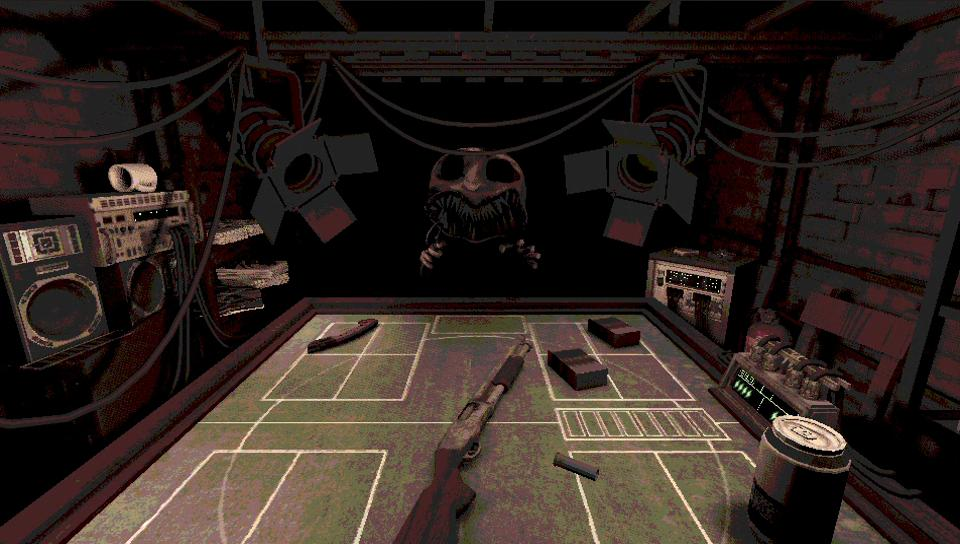ally: (55, 410, 913, 543)
can: (743, 413, 852, 543)
cigar: (549, 342, 610, 385), (587, 314, 642, 343)
doubledamage: (306, 314, 379, 354)
emptyspace: (124, 447, 303, 542), (242, 451, 390, 543), (574, 452, 715, 543)
enemyspace: (203, 306, 748, 421)
gun: (393, 341, 532, 543)
